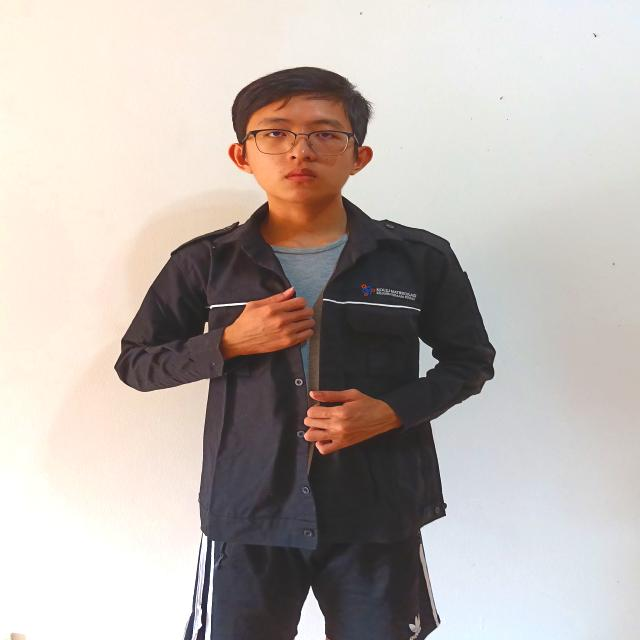person_with_labcoat: (115, 67, 495, 640)
